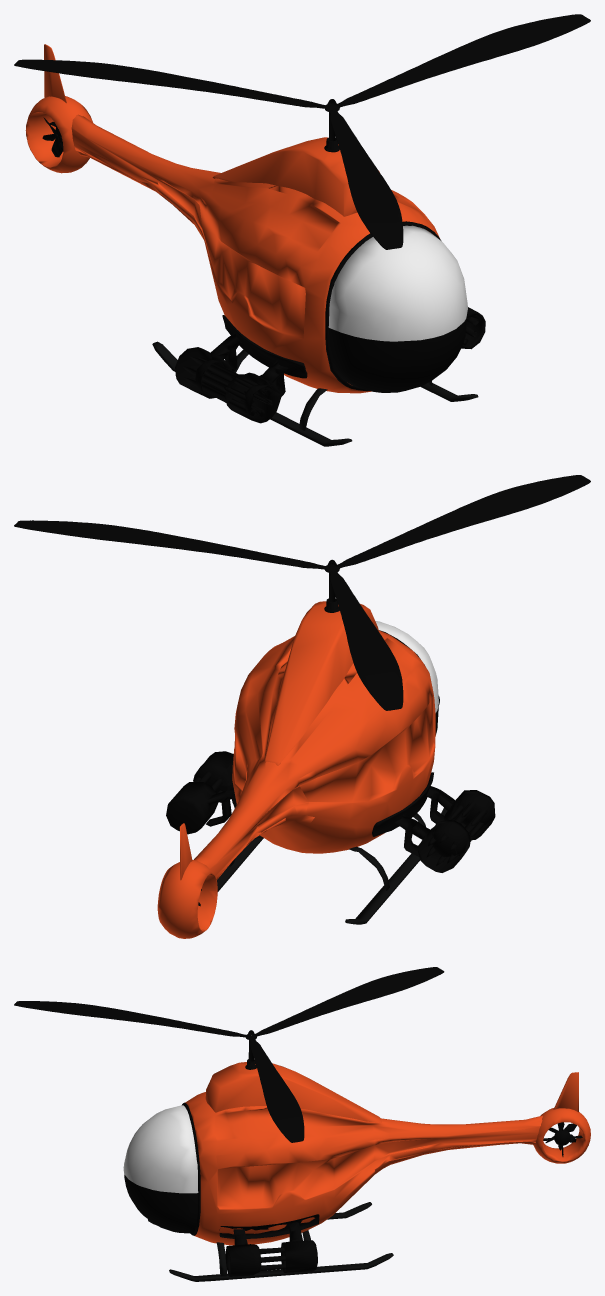
Rendered from helicopter.glb.
3 renders of one model, top to bottom at view 1: azimuth 30°, elevation 25°; view 2: azimuth 150°, elevation 25°; view 3: azimuth 270°, elevation 25°, orthographic. The views are drawn at different scales.
Visible parts, largest first — view 1: HelicopterBody, Sphere, TopFin, GatlingGun, TopEngine, BackWingsContainer, StandPlane, HelicopterBody.001, GlassGasket, Plane.001; view 2: HelicopterBody, TopFin, GatlingGun, TopEngine, BackWingsContainer, StandPlane, Sphere, HelicopterBody.001; view 3: HelicopterBody, Sphere, TopFin, TopEngine, GatlingGun, StandPlane, BackWingsContainer, HelicopterBody.001, Plane.001, GlassGasket.
Boxes of the visible parts, x1=… form: HelicopterBody: x1=71, y1=114, x2=439, y2=393; Sphere: x1=328, y1=225, x2=467, y2=392; TopFin: x1=14, y1=14, x2=590, y2=249; GatlingGun: x1=175, y1=307, x2=485, y2=423; TopEngine: x1=212, y1=137, x2=379, y2=216; BackWingsContainer: x1=25, y1=96, x2=92, y2=173; StandPlane: x1=152, y1=341, x2=478, y2=446; HelicopterBody.001: x1=222, y1=315, x2=307, y2=378; GlassGasket: x1=325, y1=221, x2=441, y2=391; Plane.001: x1=44, y1=44, x2=66, y2=103; HelicopterBody: x1=194, y1=630, x2=435, y2=879; TopFin: x1=14, y1=475, x2=590, y2=710; GatlingGun: x1=166, y1=751, x2=495, y2=872; TopEngine: x1=265, y1=601, x2=378, y2=765; BackWingsContainer: x1=157, y1=860, x2=217, y2=938; StandPlane: x1=217, y1=808, x2=447, y2=924; Sphere: x1=375, y1=621, x2=438, y2=735; HelicopterBody.001: x1=232, y1=772, x2=433, y2=836; HelicopterBody: x1=185, y1=1092, x2=542, y2=1245; Sphere: x1=123, y1=1105, x2=198, y2=1233; TopFin: x1=14, y1=967, x2=444, y2=1142; TopEngine: x1=205, y1=1062, x2=381, y2=1122; GatlingGun: x1=225, y1=1222, x2=317, y2=1276; StandPlane: x1=148, y1=1202, x2=393, y2=1281; BackWingsContainer: x1=533, y1=1108, x2=590, y2=1163; HelicopterBody.001: x1=219, y1=1214, x2=319, y2=1238; Plane.001: x1=553, y1=1072, x2=578, y2=1112; GlassGasket: x1=182, y1=1102, x2=200, y2=1235.
Size of the model in its own units: 3.66 by 2.14 by 5.11.
